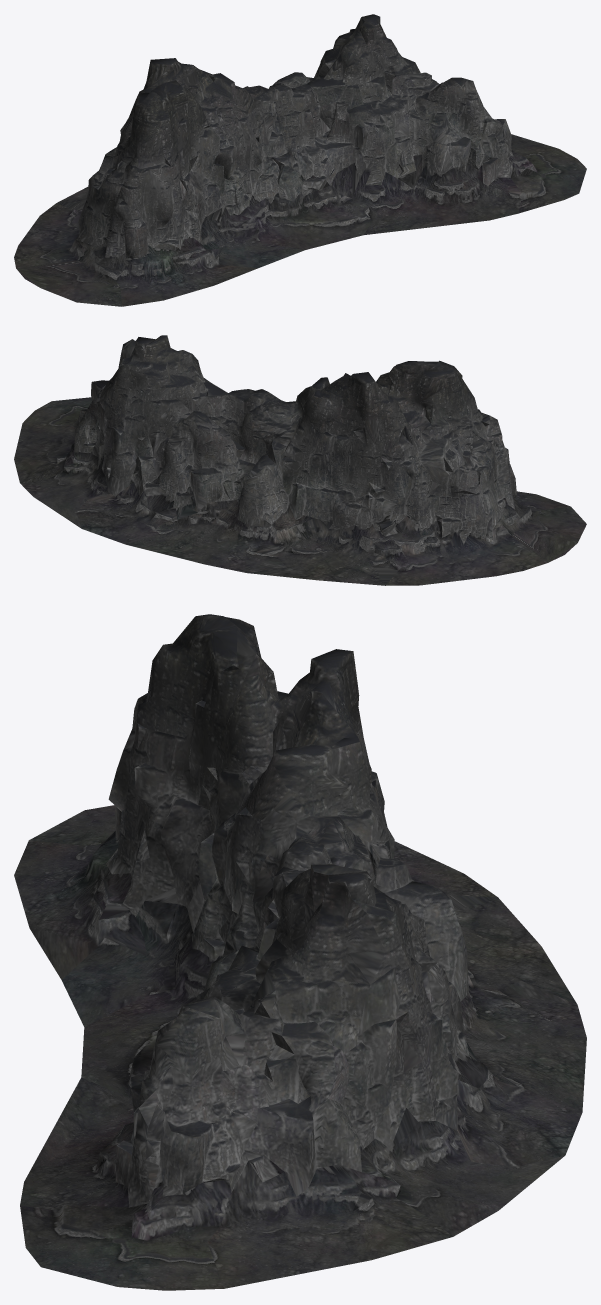
Rendered from Mountain_02_4K_GREY.fbx.
3 views of the same model, one above another, from view 1: azimuth 30°, elevation 25°; view 2: azimuth 150°, elevation 25°; view 3: azimuth 270°, elevation 25° (orthographic). The views are drawn at different scales.
Visible parts, largest first — view 1: Mountain_02_4K_GREY; view 2: Mountain_02_4K_GREY; view 3: Mountain_02_4K_GREY.
Part boxes in pixels (<box>): Mountain_02_4K_GREY: <box>14,14,586,306</box>; Mountain_02_4K_GREY: <box>14,335,586,585</box>; Mountain_02_4K_GREY: <box>14,614,586,1290</box>.
Bounding box in the file's own units: 434 × 126 × 212.
1 material, 1 textured.
